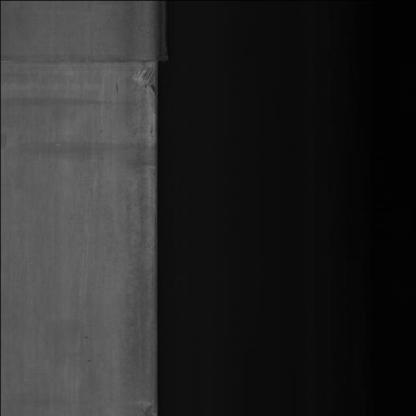welding_line: (4, 41, 173, 83)
